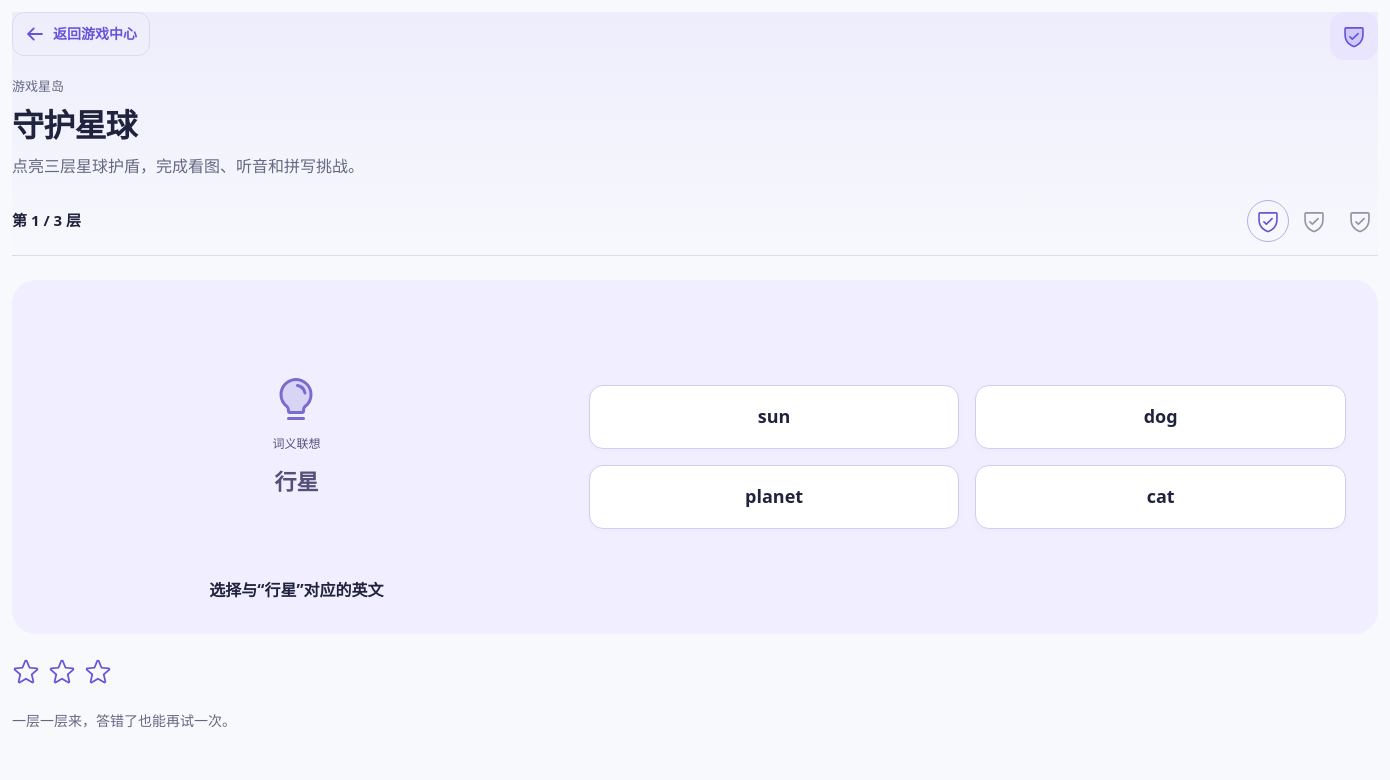
Scenario: PlanetGuardianGame › labels an unavailable US request with the US transcription and disables solved audio
What coordinates should you click on to do the following:
click the button "planet"
I would click on:
 (774, 497)
Its box is [589,465,959,529].
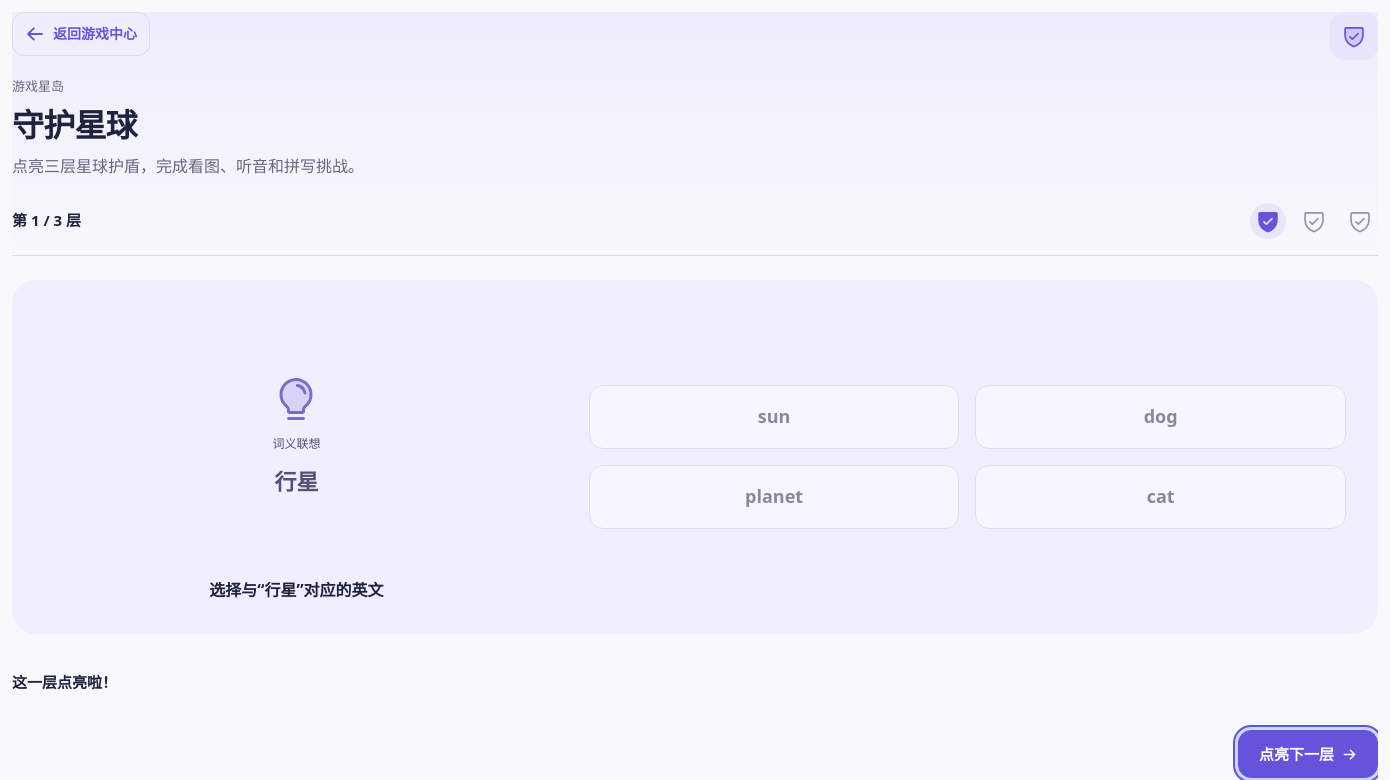
What coordinates should you click on to do the following:
click the button "点亮下一层"
I would click on:
 (1308, 754)
Its box is [1238,730,1378,778].
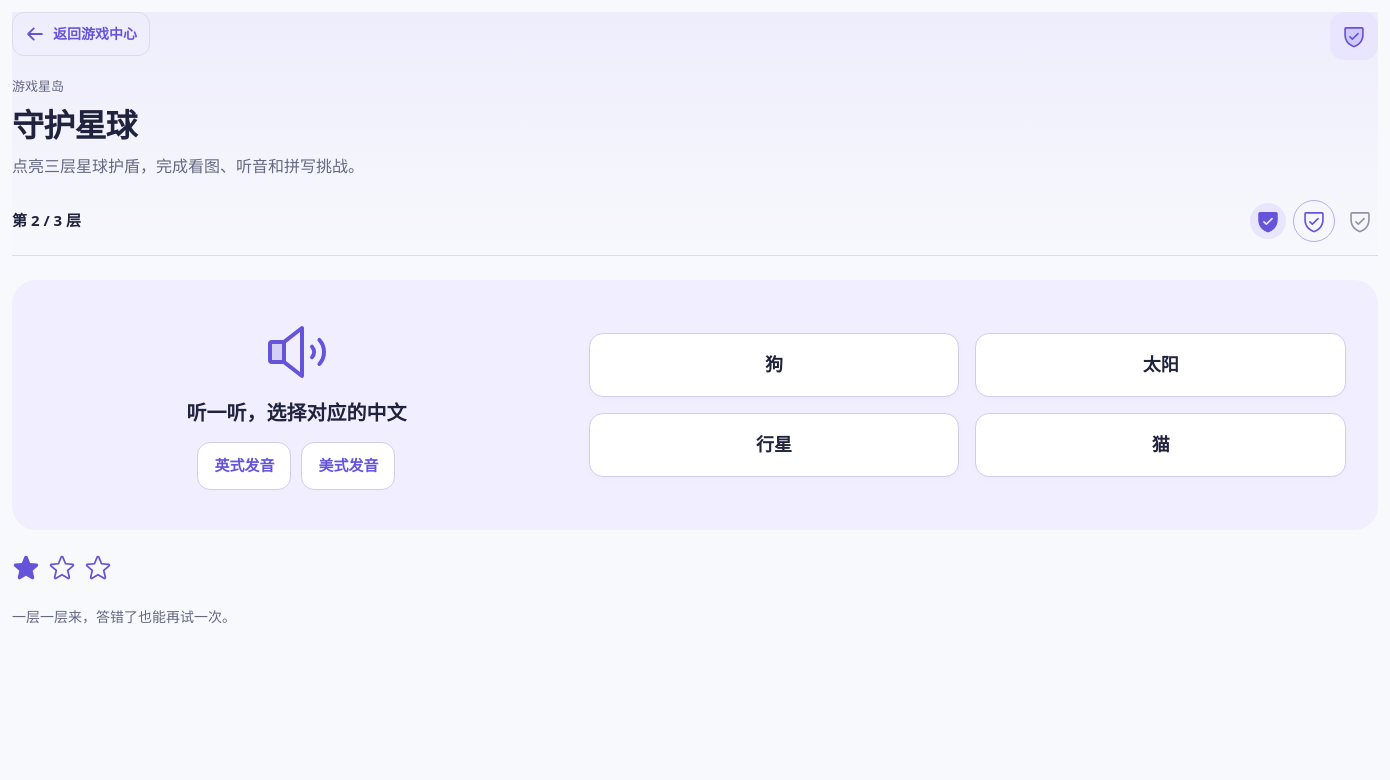
What coordinates should you click on to do the following:
click the button with aria-label "播放守护关美式发音"
I would click on:
 (348, 466)
Its box is [301,442,395,490].
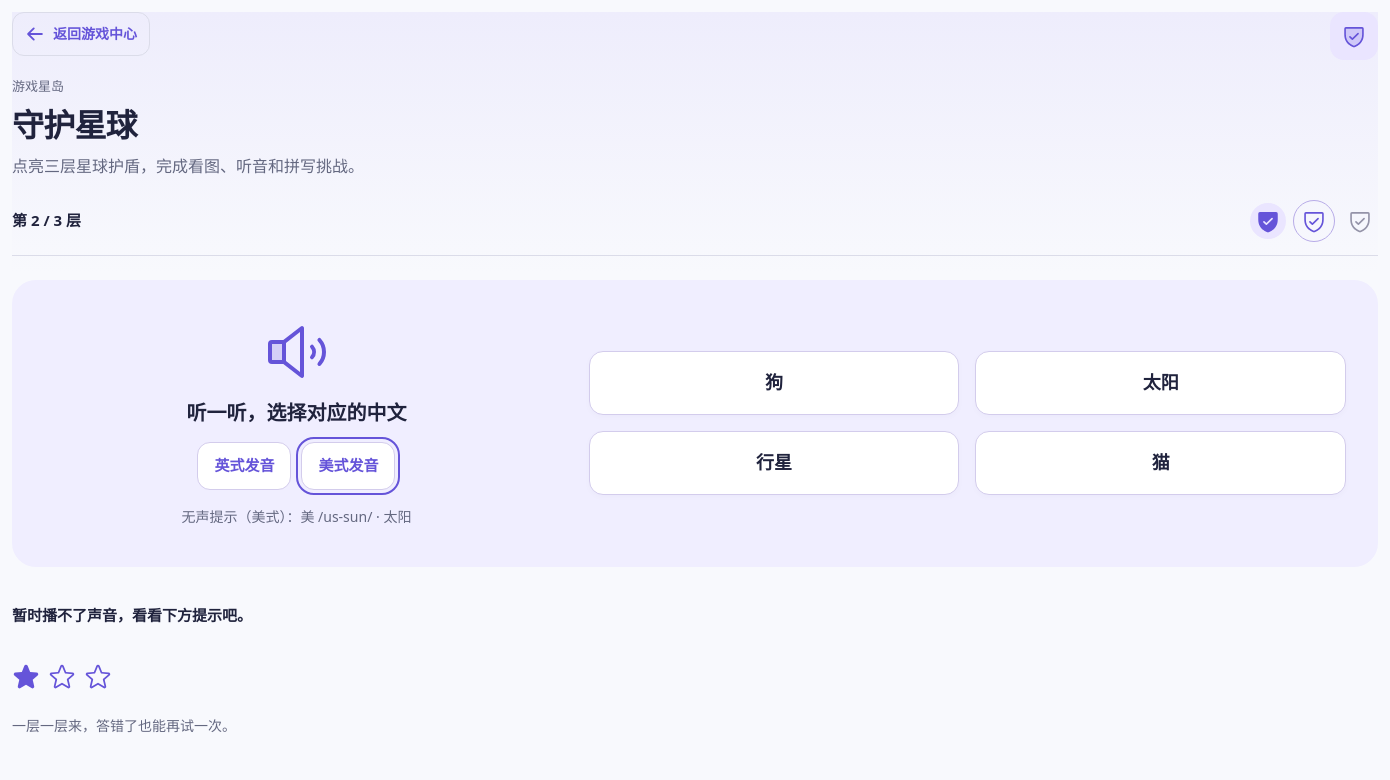
What coordinates should you click on to do the following:
click the button with aria-label "选择中文："
I would click on:
 (1161, 383)
Its box is [975,351,1346,415].
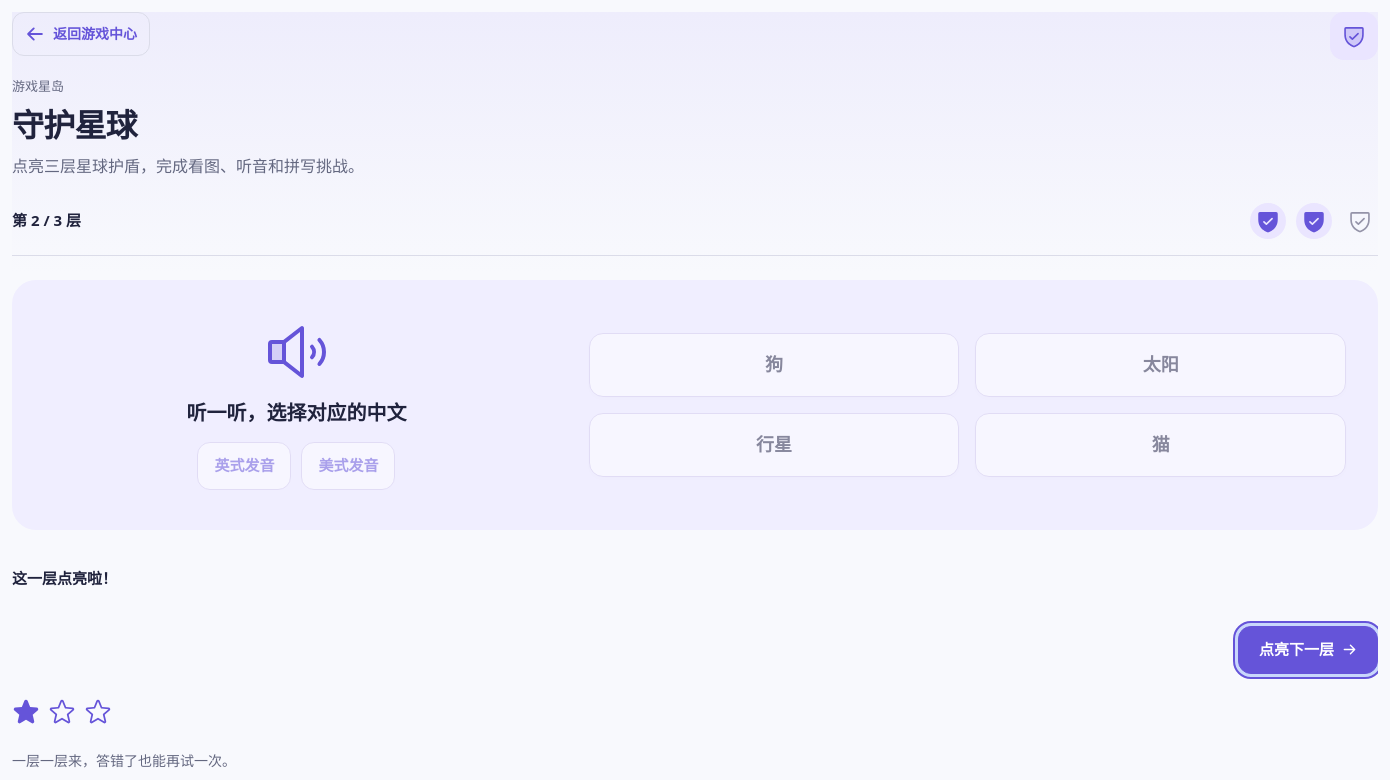
Check: the button with aria-label "播放守护关英式发音" is disabled, box [197,442,291,490]
Check: the button with aria-label "播放守护关美式发音" is disabled, box [301,442,395,490]
